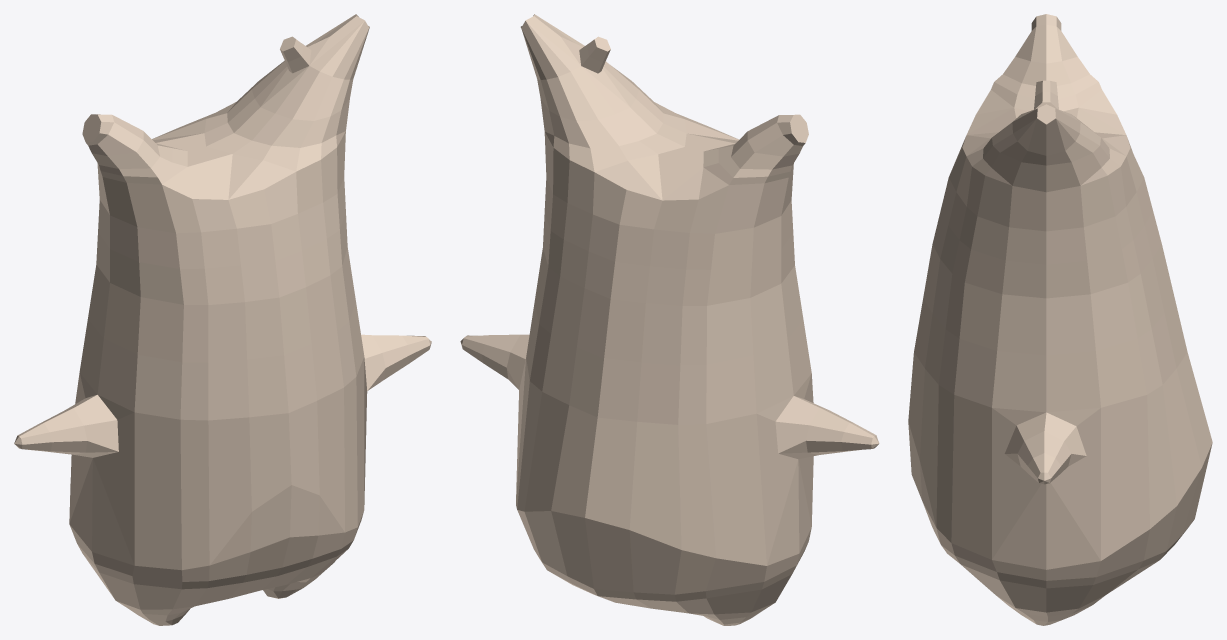
File: frame_0026.obj
3 views of the same model, side by side, from view 1: azimuth 30°, elevation 25°; view 2: azimuth 150°, elevation 25°; view 3: azimuth 270°, elevation 25° (orthographic).
Visible parts, largest first — view 1: korok; view 2: korok; view 3: korok.
Boxes of the visible parts, box(x1,y1,x2,y2) form: korok: box(14, 14, 431, 625); korok: box(460, 14, 879, 625); korok: box(908, 14, 1212, 625).
Size of the model in its own units: 1.68 by 2.16 by 1.07.
